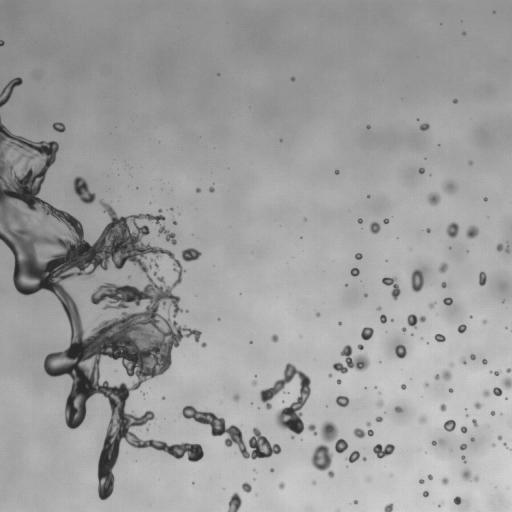droplet: (332, 344, 370, 373), (73, 176, 95, 204), (373, 443, 395, 459), (410, 269, 424, 292), (406, 314, 426, 329), (180, 248, 201, 262), (227, 492, 242, 511), (460, 468, 479, 482), (442, 180, 458, 194), (344, 450, 360, 464), (426, 192, 441, 206), (446, 222, 459, 238), (465, 225, 479, 239), (361, 326, 373, 340), (394, 344, 406, 358), (335, 395, 349, 407), (496, 241, 509, 253), (443, 419, 456, 431), (369, 221, 380, 234), (501, 376, 511, 390), (52, 122, 65, 132), (7, 123, 18, 134), (47, 130, 58, 141), (29, 132, 40, 143), (41, 132, 52, 143), (85, 233, 96, 244), (138, 234, 149, 245), (156, 237, 167, 248), (399, 280, 410, 291), (175, 314, 186, 325), (370, 319, 381, 330), (444, 327, 455, 338), (179, 336, 190, 347), (59, 339, 70, 350), (61, 373, 72, 384), (143, 376, 154, 387), (437, 378, 448, 389), (336, 384, 347, 395), (366, 389, 377, 400), (91, 391, 102, 402), (440, 392, 451, 403), (270, 394, 281, 405), (383, 400, 394, 411), (195, 401, 206, 412), (56, 408, 67, 419), (384, 409, 395, 420), (474, 409, 485, 420), (300, 414, 311, 425), (152, 431, 163, 442), (313, 434, 324, 445), (365, 436, 376, 447), (330, 451, 341, 462), (270, 472, 281, 483), (450, 472, 461, 483), (89, 477, 100, 488), (478, 271, 486, 286), (241, 482, 251, 493), (218, 501, 229, 511), (438, 262, 447, 273), (434, 333, 445, 342), (231, 393, 240, 403), (453, 496, 463, 505), (350, 267, 359, 276), (457, 324, 466, 333), (451, 174, 460, 183), (454, 187, 463, 196), (438, 190, 447, 199), (136, 217, 145, 226), (162, 218, 171, 227), (146, 219, 155, 228), (361, 220, 370, 229), (165, 223, 174, 232), (457, 226, 466, 235), (163, 241, 172, 250), (350, 258, 359, 267), (353, 259, 362, 268), (438, 272, 447, 281), (39, 287, 48, 296), (441, 288, 450, 297), (350, 349, 359, 358), (337, 355, 346, 364), (486, 361, 495, 370), (347, 366, 356, 375), (154, 373, 163, 382), (291, 375, 300, 384), (264, 379, 273, 388), (480, 405, 489, 414), (469, 408, 478, 417), (332, 418, 341, 427), (370, 421, 379, 430), (283, 427, 292, 436), (241, 432, 250, 441), (460, 433, 469, 442), (118, 438, 127, 447), (326, 440, 335, 449), (94, 443, 103, 452), (305, 447, 314, 456), (159, 449, 168, 458), (91, 452, 100, 461), (456, 462, 465, 471), (110, 465, 119, 474), (432, 473, 441, 482), (462, 479, 471, 488), (422, 480, 431, 489), (238, 490, 247, 499), (419, 123, 429, 131), (375, 398, 383, 408), (418, 414, 426, 424), (443, 297, 452, 305), (441, 476, 449, 485), (384, 503, 393, 511), (349, 505, 360, 511), (451, 505, 462, 511), (428, 301, 436, 309), (270, 334, 278, 342), (474, 401, 482, 409), (379, 314, 386, 323), (459, 356, 466, 365), (439, 403, 446, 412), (278, 480, 285, 489), (354, 253, 362, 260), (459, 443, 467, 450), (421, 490, 429, 497), (394, 406, 403, 412), (418, 167, 425, 174), (460, 426, 467, 433), (9, 72, 16, 79), (54, 151, 61, 158), (45, 167, 52, 174), (67, 183, 74, 190), (87, 185, 94, 192), (201, 186, 208, 193), (36, 191, 43, 198), (72, 193, 79, 200), (91, 199, 98, 206), (424, 201, 431, 208), (436, 201, 443, 208), (54, 202, 61, 209), (84, 202, 91, 209), (71, 211, 78, 218), (115, 211, 122, 218), (104, 216, 111, 223), (447, 216, 454, 223), (452, 216, 459, 223), (445, 235, 452, 242), (471, 235, 478, 242), (5, 248, 12, 255), (175, 253, 182, 260), (433, 261, 440, 268), (8, 262, 15, 269), (7, 266, 14, 273), (445, 266, 452, 273), (421, 271, 428, 278), (420, 284, 427, 291), (170, 288, 177, 295), (17, 292, 24, 299), (28, 292, 35, 299), (59, 310, 66, 317), (406, 325, 413, 332), (264, 335, 271, 342), (357, 337, 364, 344), (337, 343, 344, 350), (49, 346, 56, 353), (170, 346, 177, 353), (474, 356, 481, 363), (168, 363, 175, 370), (295, 363, 302, 370), (38, 366, 45, 373), (449, 367, 456, 374), (164, 368, 171, 375), (303, 369, 310, 376), (334, 370, 341, 377), (499, 370, 506, 377), (277, 372, 284, 379), (43, 373, 50, 380), (427, 376, 434, 383), (445, 380, 452, 387), (308, 381, 315, 388), (283, 382, 290, 389), (128, 389, 135, 396), (254, 392, 261, 399), (60, 396, 67, 403), (477, 396, 484, 403), (102, 397, 109, 404), (124, 397, 131, 404), (258, 400, 265, 407), (283, 400, 290, 407), (467, 403, 474, 410), (123, 406, 130, 413), (84, 409, 91, 416), (135, 410, 142, 417), (59, 418, 66, 425), (465, 421, 472, 428), (78, 422, 85, 429), (204, 423, 211, 430), (454, 423, 461, 430), (127, 425, 134, 432), (314, 425, 321, 432), (361, 425, 368, 432), (301, 427, 308, 434), (221, 431, 228, 438), (98, 434, 105, 441), (188, 437, 195, 444), (231, 442, 238, 449), (145, 445, 152, 452), (343, 448, 350, 455), (166, 453, 173, 460), (464, 462, 471, 469), (327, 463, 334, 470), (91, 466, 98, 473), (312, 467, 319, 474), (321, 468, 328, 475), (469, 469, 476, 476), (112, 479, 119, 486), (420, 483, 427, 490), (91, 488, 98, 495), (106, 494, 113, 501), (375, 416, 383, 422), (472, 419, 478, 427), (382, 218, 389, 224), (315, 310, 321, 317), (251, 379, 257, 386), (366, 475, 372, 482), (437, 501, 444, 507), (124, 275, 132, 280), (195, 187, 201, 193), (357, 218, 363, 224), (441, 282, 447, 288), (357, 344, 363, 350), (470, 354, 476, 360), (423, 381, 429, 387), (427, 474, 433, 480), (418, 478, 424, 484), (0, 224, 4, 233), (452, 98, 458, 103), (467, 160, 473, 165), (334, 168, 339, 174), (482, 318, 487, 324), (401, 327, 406, 333), (201, 342, 207, 347), (482, 358, 487, 364), (505, 368, 511, 373), (336, 379, 341, 385), (400, 384, 406, 389), (431, 440, 436, 446), (507, 371, 511, 378), (507, 440, 511, 447), (236, 507, 243, 511), (436, 507, 443, 511), (290, 76, 295, 81), (337, 321, 342, 326), (448, 388, 453, 393), (490, 410, 495, 415), (497, 435, 502, 440), (269, 468, 274, 473), (311, 480, 316, 485), (15, 72, 20, 77), (21, 78, 26, 83), (13, 85, 18, 90), (7, 97, 12, 102), (3, 102, 8, 107), (418, 119, 423, 124), (1, 120, 6, 125), (63, 122, 68, 127), (64, 125, 69, 130), (424, 128, 429, 133), (423, 170, 428, 175), (40, 182, 45, 187), (197, 183, 202, 188), (195, 192, 200, 197), (103, 198, 108, 203), (99, 205, 104, 210), (172, 208, 177, 213), (141, 209, 146, 214), (133, 210, 138, 215), (153, 211, 158, 216), (160, 211, 165, 216), (174, 216, 179, 221), (158, 218, 163, 223), (378, 220, 383, 225), (155, 224, 160, 229), (81, 225, 86, 230), (160, 232, 165, 237), (149, 242, 154, 247), (501, 242, 506, 247), (183, 244, 188, 249), (491, 244, 496, 249), (195, 246, 200, 251), (499, 249, 504, 254), (9, 253, 14, 258), (197, 255, 202, 260), (178, 257, 183, 262), (189, 259, 194, 264), (416, 265, 421, 270), (180, 272, 185, 277), (474, 276, 479, 281), (484, 279, 489, 284), (9, 281, 14, 286), (436, 281, 441, 286), (175, 283, 180, 288), (388, 284, 393, 289), (11, 286, 16, 291), (388, 294, 393, 299), (396, 294, 401, 299), (429, 297, 434, 302), (176, 301, 181, 306), (441, 303, 446, 308), (169, 305, 174, 310), (377, 310, 382, 315), (310, 311, 315, 316), (319, 313, 324, 318), (415, 314, 420, 319), (385, 315, 390, 320), (169, 316, 174, 321), (375, 316, 380, 321), (415, 320, 420, 325), (477, 320, 482, 325), (65, 322, 70, 327), (366, 322, 371, 327), (484, 322, 489, 327), (189, 325, 194, 330), (66, 329, 71, 334), (272, 329, 277, 334), (463, 329, 468, 334), (269, 330, 274, 335), (356, 331, 361, 336), (189, 333, 194, 338), (277, 335, 282, 340), (198, 337, 203, 342), (367, 337, 372, 342), (420, 339, 425, 344), (269, 340, 274, 345), (343, 340, 348, 345), (394, 340, 399, 345), (201, 346, 206, 351), (405, 347, 410, 352), (391, 352, 396, 357), (403, 354, 408, 359), (40, 355, 45, 360), (395, 356, 400, 361), (465, 356, 470, 361), (398, 357, 403, 362), (39, 360, 44, 365), (280, 365, 285, 370), (491, 366, 496, 371), (438, 375, 443, 380), (399, 379, 404, 384), (402, 379, 407, 384), (139, 382, 144, 387), (498, 384, 503, 389), (396, 386, 401, 391), (424, 386, 429, 391), (478, 388, 483, 393), (488, 388, 493, 393), (340, 391, 345, 396), (228, 392, 233, 397), (489, 392, 494, 397), (378, 394, 383, 399), (331, 395, 336, 400), (238, 397, 243, 402), (438, 399, 443, 404), (231, 400, 236, 405), (185, 401, 190, 406), (347, 401, 352, 406), (396, 401, 401, 406), (435, 403, 440, 408), (337, 405, 342, 410), (343, 405, 348, 410), (381, 405, 386, 410), (445, 405, 450, 410), (150, 407, 155, 412), (177, 407, 182, 412), (210, 408, 215, 413), (390, 408, 395, 413), (494, 410, 499, 415), (153, 411, 158, 416), (377, 411, 382, 416), (395, 411, 400, 416), (216, 413, 221, 418), (299, 415, 304, 420), (181, 416, 186, 421), (443, 416, 448, 421), (82, 417, 87, 422), (189, 417, 194, 422), (104, 419, 109, 424), (234, 422, 239, 427), (141, 423, 146, 428), (64, 425, 69, 430), (249, 431, 254, 436), (260, 431, 265, 436), (363, 433, 368, 438), (500, 437, 505, 442), (176, 439, 181, 444), (388, 439, 393, 444), (456, 440, 461, 445), (166, 441, 171, 446), (269, 441, 274, 446), (371, 441, 376, 446), (278, 442, 283, 447), (138, 447, 143, 452), (201, 447, 206, 452), (392, 448, 397, 453), (279, 449, 284, 454), (460, 449, 465, 454), (236, 450, 241, 455), (183, 451, 188, 456), (270, 452, 275, 457), (371, 452, 376, 457), (383, 454, 388, 459), (247, 456, 252, 461), (255, 456, 260, 461), (261, 456, 266, 461), (357, 456, 362, 461), (197, 458, 202, 463), (344, 459, 349, 464), (333, 471, 338, 476), (477, 473, 482, 478), (423, 476, 428, 481), (240, 478, 245, 483), (447, 479, 452, 484), (248, 480, 253, 485), (283, 480, 288, 485), (273, 483, 278, 488), (443, 483, 448, 488), (283, 484, 288, 489), (250, 486, 255, 491), (278, 488, 283, 493), (418, 489, 423, 494), (226, 495, 231, 500), (384, 500, 389, 505), (459, 500, 464, 505), (450, 501, 455, 506), (0, 40, 4, 46), (0, 239, 3, 246), (461, 31, 466, 35), (366, 124, 370, 129), (169, 206, 173, 211), (426, 228, 430, 233), (363, 293, 368, 297), (376, 306, 381, 310), (470, 437, 474, 442), (438, 438, 442, 443), (491, 443, 496, 447), (362, 456, 366, 461), (366, 194, 370, 198), (483, 197, 487, 201), (303, 217, 307, 221), (390, 318, 394, 322), (328, 373, 332, 377), (281, 399, 285, 403), (389, 473, 393, 477), (508, 245, 511, 250), (508, 363, 511, 368), (379, 508, 384, 511), (391, 508, 396, 511), (279, 138, 282, 142), (344, 283, 348, 286), (469, 315, 473, 318), (217, 317, 220, 321), (249, 340, 253, 343), (374, 385, 377, 389), (378, 391, 381, 395), (161, 396, 165, 399), (465, 414, 469, 417), (0, 86, 2, 91), (492, 10, 495, 13), (217, 73, 220, 76), (416, 118, 419, 121), (448, 246, 451, 249), (466, 249, 469, 252), (385, 259, 388, 262), (239, 292, 242, 295), (420, 336, 423, 339), (426, 341, 429, 344), (378, 360, 381, 363), (114, 369, 117, 372), (254, 374, 257, 377), (364, 386, 367, 389), (250, 402, 253, 405), (257, 406, 260, 409), (253, 477, 256, 480), (506, 486, 509, 489), (489, 9, 492, 12), (495, 10, 498, 13), (436, 22, 439, 25), (459, 29, 462, 32), (465, 30, 468, 33), (460, 34, 463, 37), (464, 34, 467, 37), (1, 37, 4, 40), (3, 42, 6, 45), (216, 69, 219, 72), (216, 75, 219, 78), (288, 79, 291, 82), (293, 79, 296, 82), (451, 96, 454, 99), (456, 97, 459, 100), (452, 102, 455, 105), (414, 115, 417, 118), (56, 119, 59, 122), (50, 121, 53, 124), (363, 123, 366, 126), (369, 123, 372, 126), (367, 128, 370, 131), (63, 129, 66, 132), (279, 135, 282, 138), (282, 138, 285, 141), (276, 139, 279, 142), (437, 140, 440, 143), (279, 141, 282, 144), (439, 143, 442, 146), (436, 145, 439, 148), (419, 164, 422, 167), (336, 166, 339, 169), (331, 170, 334, 173), (338, 170, 341, 173), (417, 172, 420, 175), (336, 173, 339, 176), (137, 184, 140, 187), (212, 184, 215, 187), (132, 186, 135, 189), (192, 188, 195, 191), (208, 191, 211, 194), (363, 194, 366, 197), (482, 194, 485, 197), (485, 194, 488, 197), (369, 195, 372, 198), (365, 197, 368, 200), (480, 198, 483, 201), (485, 200, 488, 203), (168, 204, 171, 207), (172, 205, 175, 208), (304, 214, 307, 217), (385, 215, 388, 218), (355, 216, 358, 219), (361, 216, 364, 219), (381, 216, 384, 219), (306, 217, 309, 220), (388, 219, 391, 222), (355, 221, 358, 224), (427, 225, 430, 228), (423, 229, 426, 232), (429, 230, 432, 233), (298, 233, 301, 236), (302, 235, 305, 238), (173, 236, 176, 239), (299, 238, 302, 241), (451, 246, 454, 249), (445, 247, 448, 250), (354, 250, 357, 253), (358, 250, 361, 253), (468, 250, 471, 253), (361, 253, 364, 256), (360, 257, 363, 260), (381, 258, 384, 261), (387, 259, 390, 262), (384, 261, 387, 264), (355, 265, 358, 268), (348, 267, 351, 270), (480, 268, 483, 271), (347, 270, 350, 273), (385, 274, 388, 277), (353, 275, 356, 278), (379, 277, 382, 280), (445, 281, 448, 284), (341, 283, 344, 286), (382, 283, 385, 286), (346, 285, 349, 288), (444, 286, 447, 289), (365, 290, 368, 293), (236, 291, 239, 294), (239, 294, 242, 297), (446, 294, 449, 297), (361, 295, 364, 298), (366, 295, 369, 298), (441, 296, 444, 299), (451, 297, 454, 300), (499, 298, 502, 301), (503, 300, 506, 303), (451, 301, 454, 304), (499, 302, 502, 305), (379, 303, 382, 306), (375, 304, 378, 307), (433, 304, 436, 307), (446, 304, 449, 307), (187, 307, 190, 310), (182, 308, 185, 311), (316, 308, 319, 311), (319, 311, 322, 314), (470, 312, 473, 315), (219, 315, 222, 318), (214, 316, 217, 319), (338, 318, 341, 321), (393, 318, 396, 321), (341, 321, 344, 324), (457, 322, 460, 325), (464, 322, 467, 325), (336, 324, 339, 327), (339, 324, 342, 327), (186, 325, 189, 328), (455, 325, 458, 328), (465, 326, 468, 329), (501, 326, 504, 329), (507, 326, 510, 329), (400, 330, 403, 333), (439, 331, 442, 334), (456, 331, 459, 334), (409, 335, 412, 338), (249, 337, 252, 340), (433, 339, 436, 342), (439, 341, 442, 344), (249, 343, 252, 346), (362, 346, 365, 349), (472, 351, 475, 354), (379, 357, 382, 360), (485, 357, 488, 360), (479, 361, 482, 364), (486, 361, 489, 364), (461, 363, 464, 366), (482, 363, 485, 366), (251, 372, 254, 375), (433, 372, 436, 375), (491, 372, 494, 375), (252, 376, 255, 379), (333, 380, 336, 383), (340, 381, 343, 384), (371, 383, 374, 386), (361, 384, 364, 387), (405, 384, 408, 387), (427, 384, 430, 387), (450, 385, 453, 388), (376, 387, 379, 390), (363, 388, 366, 391), (445, 389, 448, 392), (451, 391, 454, 394), (144, 393, 147, 396), (160, 393, 163, 396), (164, 395, 167, 398), (158, 396, 161, 399), (161, 399, 164, 402), (504, 399, 507, 402), (247, 402, 250, 405), (464, 404, 467, 407), (322, 405, 325, 408), (491, 407, 494, 410), (465, 410, 468, 413), (487, 410, 490, 413), (180, 414, 183, 417), (489, 414, 492, 417), (473, 416, 476, 419), (451, 417, 454, 420), (147, 419, 150, 422), (475, 420, 478, 423), (376, 421, 379, 424), (441, 421, 444, 424), (442, 428, 445, 431), (462, 432, 465, 435), (432, 437, 435, 440), (435, 439, 438, 442), (488, 442, 491, 445), (429, 443, 432, 446), (493, 446, 496, 449), (505, 448, 508, 451), (376, 457, 379, 460), (464, 457, 467, 460), (354, 459, 357, 462), (460, 459, 463, 462), (273, 468, 276, 471), (267, 470, 270, 473), (271, 471, 274, 474), (426, 471, 429, 474), (430, 472, 433, 475), (416, 477, 419, 480), (193, 479, 196, 482), (477, 479, 480, 482), (471, 480, 474, 483), (188, 481, 191, 484), (427, 489, 430, 492), (426, 495, 429, 498), (452, 495, 455, 498), (352, 497, 355, 500), (355, 497, 358, 500), (350, 500, 353, 503), (357, 500, 360, 503), (436, 501, 439, 504), (353, 503, 356, 506), (440, 504, 443, 507), (436, 506, 439, 509), (437, 144, 440, 146), (429, 173, 431, 176), (149, 201, 151, 204), (178, 212, 180, 215), (299, 236, 302, 238), (505, 326, 507, 329), (410, 333, 413, 335), (299, 335, 301, 338), (464, 408, 467, 410), (300, 438, 302, 441), (192, 481, 194, 484), (494, 486, 497, 488), (255, 493, 257, 496), (509, 450, 511, 453), (440, 23, 442, 25), (424, 157, 426, 159), (136, 187, 138, 189), (396, 237, 398, 239), (410, 378, 412, 380), (325, 405, 327, 407), (384, 411, 386, 413), (500, 413, 502, 415), (425, 451, 427, 453), (346, 465, 348, 467), (0, 45, 1, 48), (360, 280, 361, 282), (385, 331, 387, 332), (135, 460, 137, 461)
ligament: (259, 362, 348, 478), (178, 405, 281, 459), (0, 77, 22, 107), (381, 275, 401, 300), (482, 387, 502, 397), (489, 370, 501, 376), (502, 442, 511, 450), (208, 182, 214, 193), (172, 215, 177, 225), (461, 455, 466, 463), (252, 468, 257, 472), (501, 299, 505, 303), (503, 397, 508, 399), (335, 509, 340, 511), (222, 487, 225, 489), (510, 329, 511, 332)
